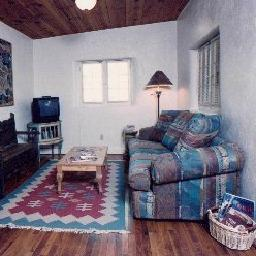Otro Obstaculo: (204, 192, 255, 251)
